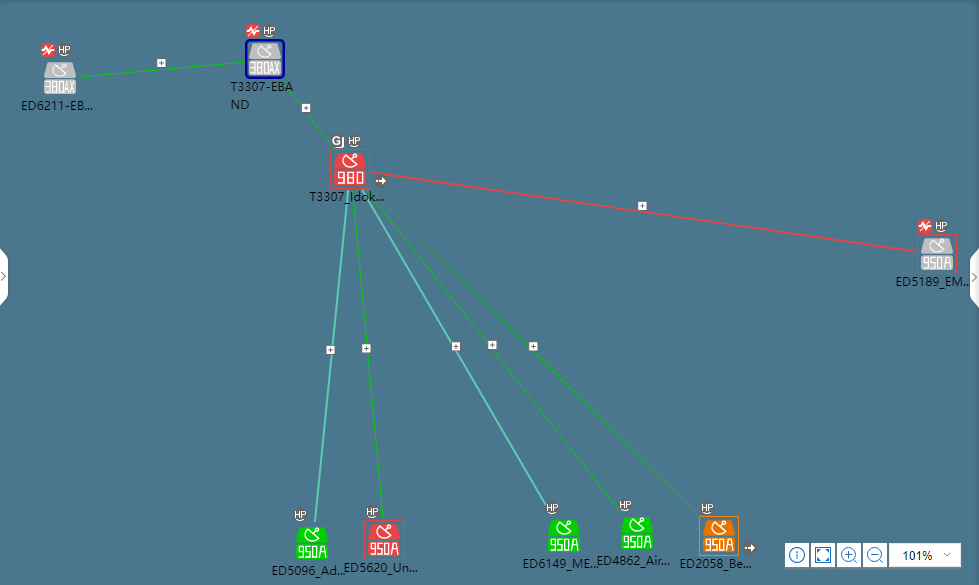Link_Blue: (369, 202, 549, 514), (315, 192, 347, 493)
Link_Green: (370, 192, 694, 513), (352, 211, 387, 519), (278, 81, 330, 144), (76, 63, 207, 78)
Link_Red: (370, 167, 915, 257)
RTN_Gray: (921, 234, 956, 276), (248, 45, 281, 80), (46, 63, 75, 98)
RTN_Green: (548, 522, 583, 557), (297, 528, 332, 563), (621, 516, 656, 548)
RTN_Orange: (701, 516, 736, 557)
RTN_Red: (364, 522, 405, 563), (333, 155, 367, 190)
